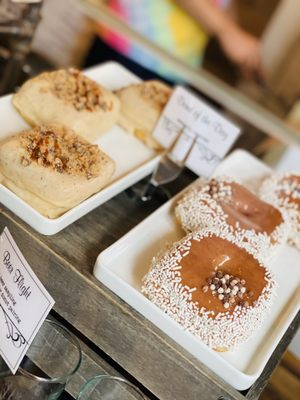curry: (1, 17, 300, 399)
sushi: (0, 124, 117, 215), (14, 68, 122, 143)
